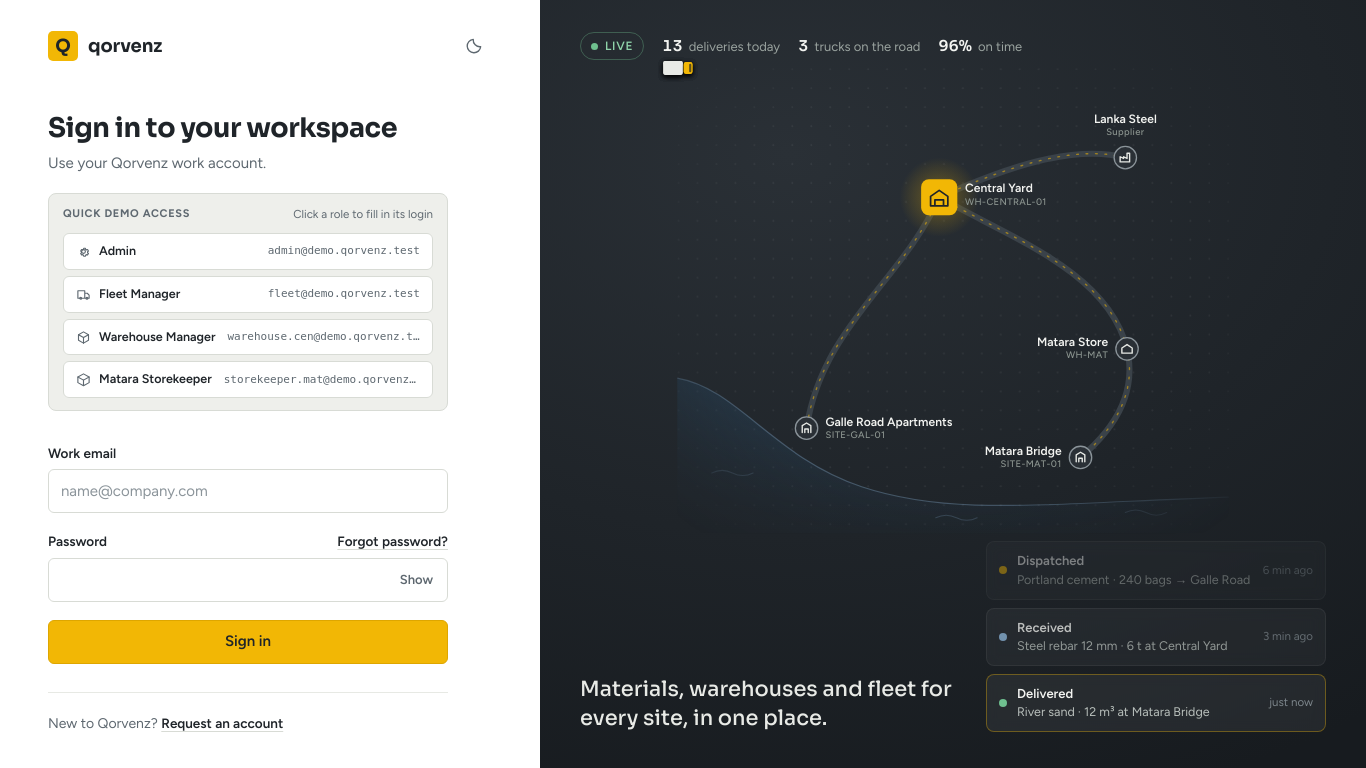
Scenario: request an account › says clearly when the company code is wrong
Expected: the heading "Sign in to your workspace" is shown, [48,112,448,144]
Click the button "Request an account" at (222, 723), box [161,713,283,733]
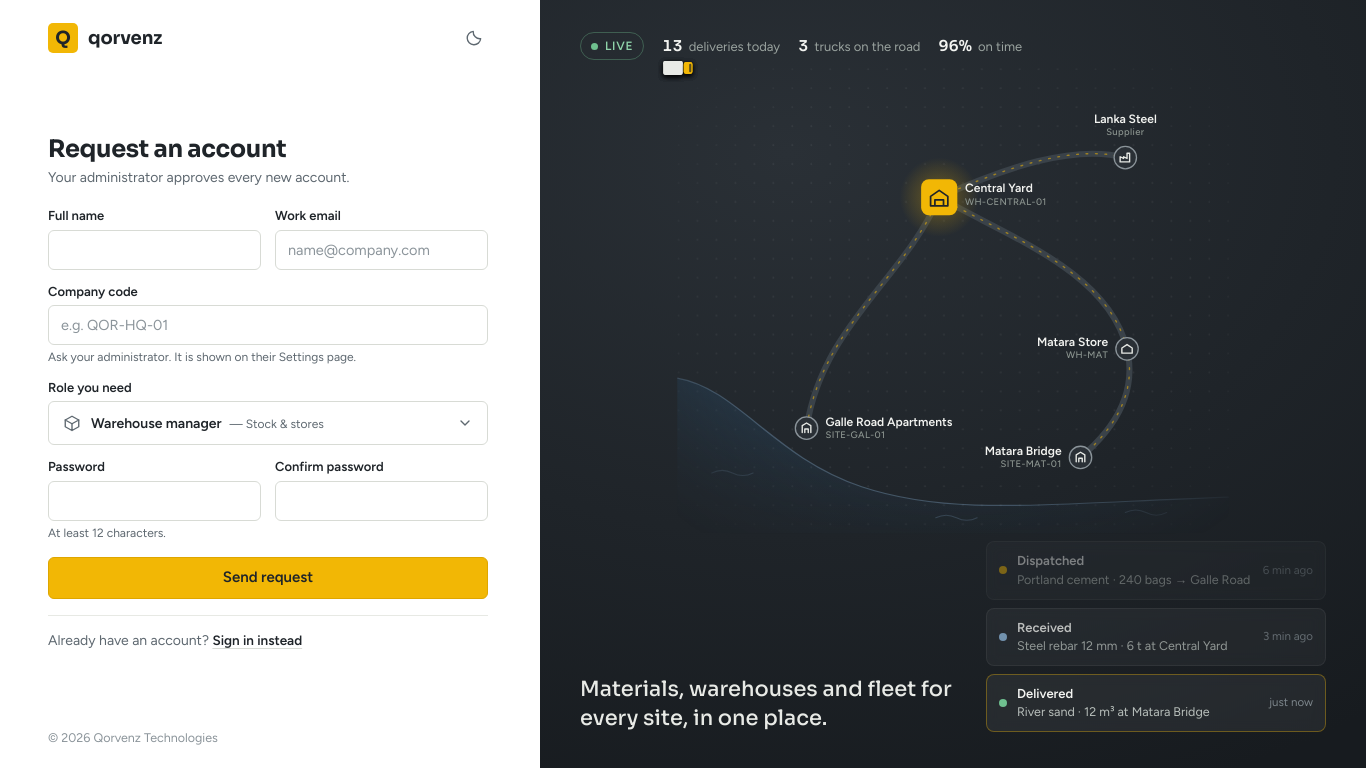
Now the heading "Request an account" is shown, box [48,134,286,164]
Type "New Person" into the field labelled "Full name" at (154, 250), box [48,230,261,270]
Type "new@example.com" into the field labelled "Work email" at (382, 250), box [275,230,488,270]
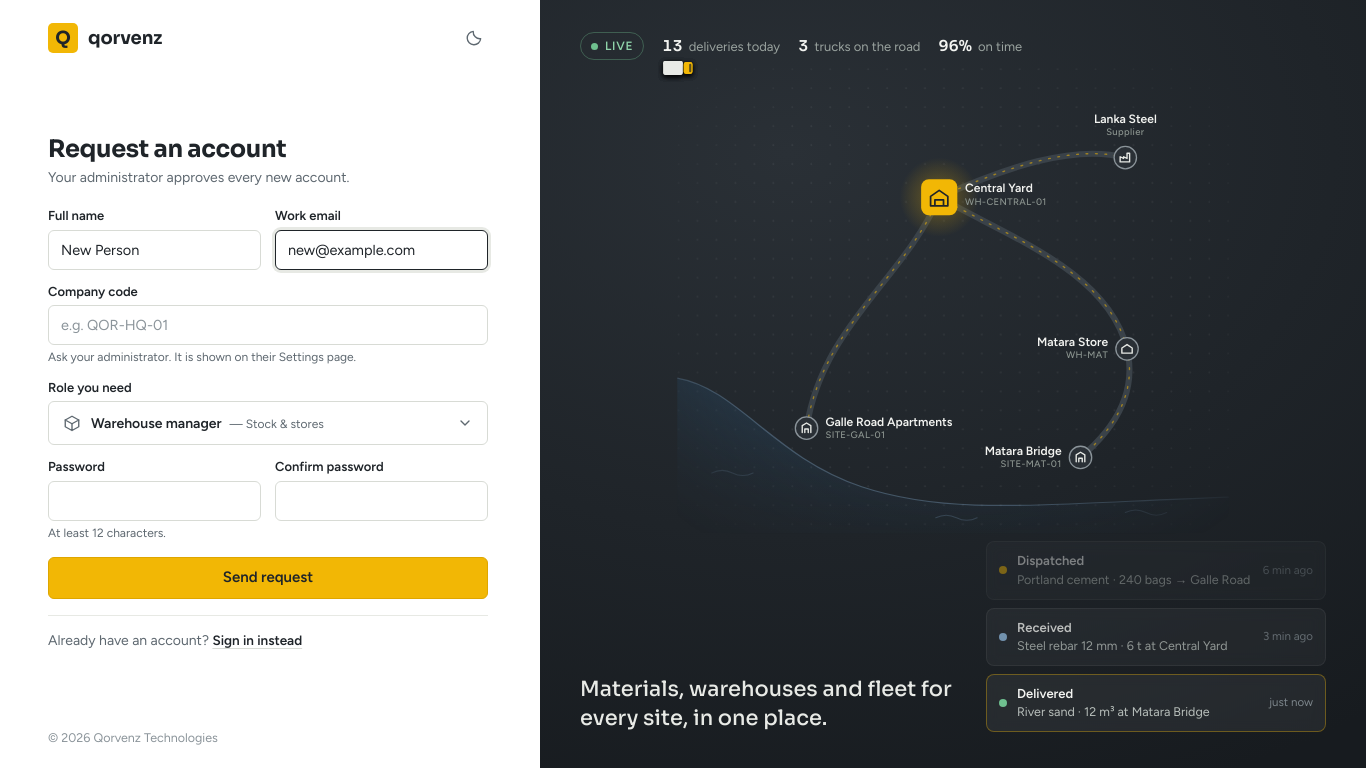
Type "WRONG" into the field labelled "Company code" at (268, 325), box [48,305,488,345]
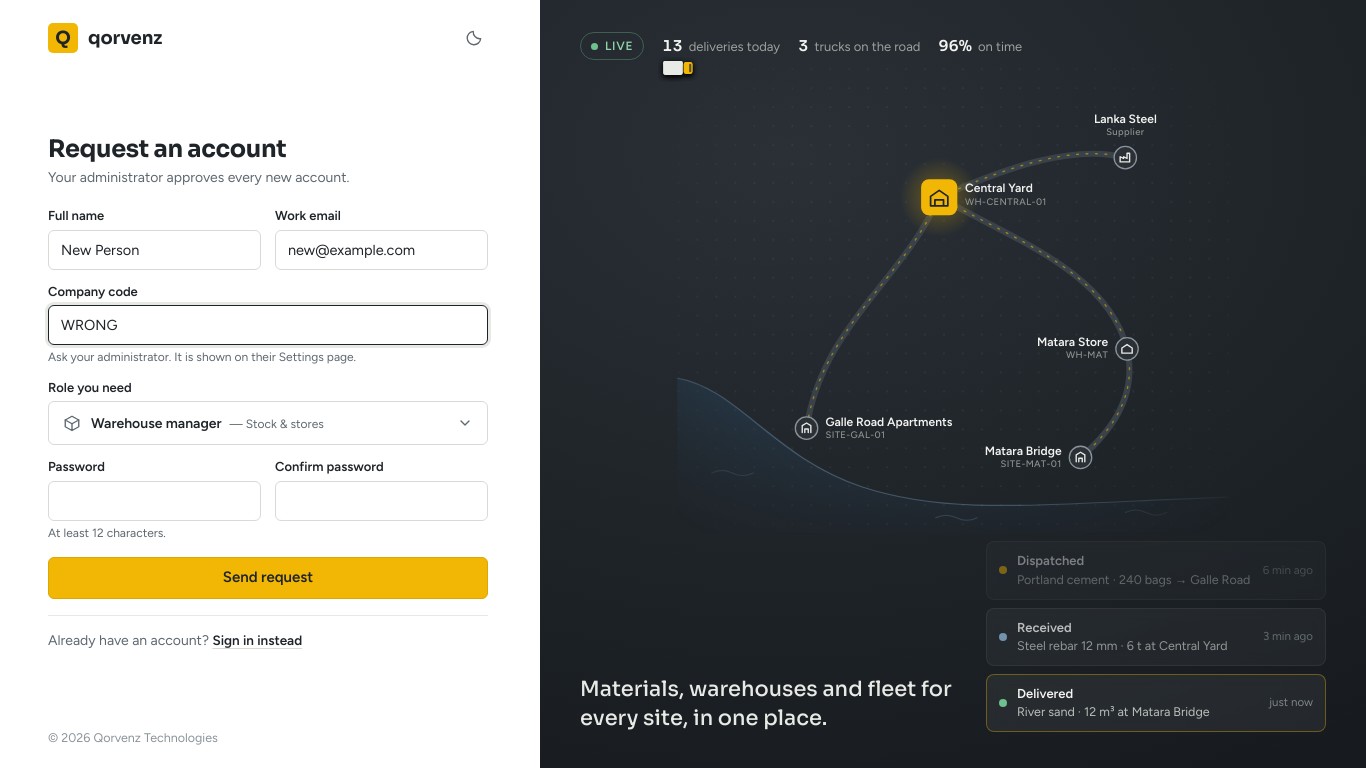
Type "long-enough-password" into the password field labelled "Password" at (154, 500), box [48,480,261,520]
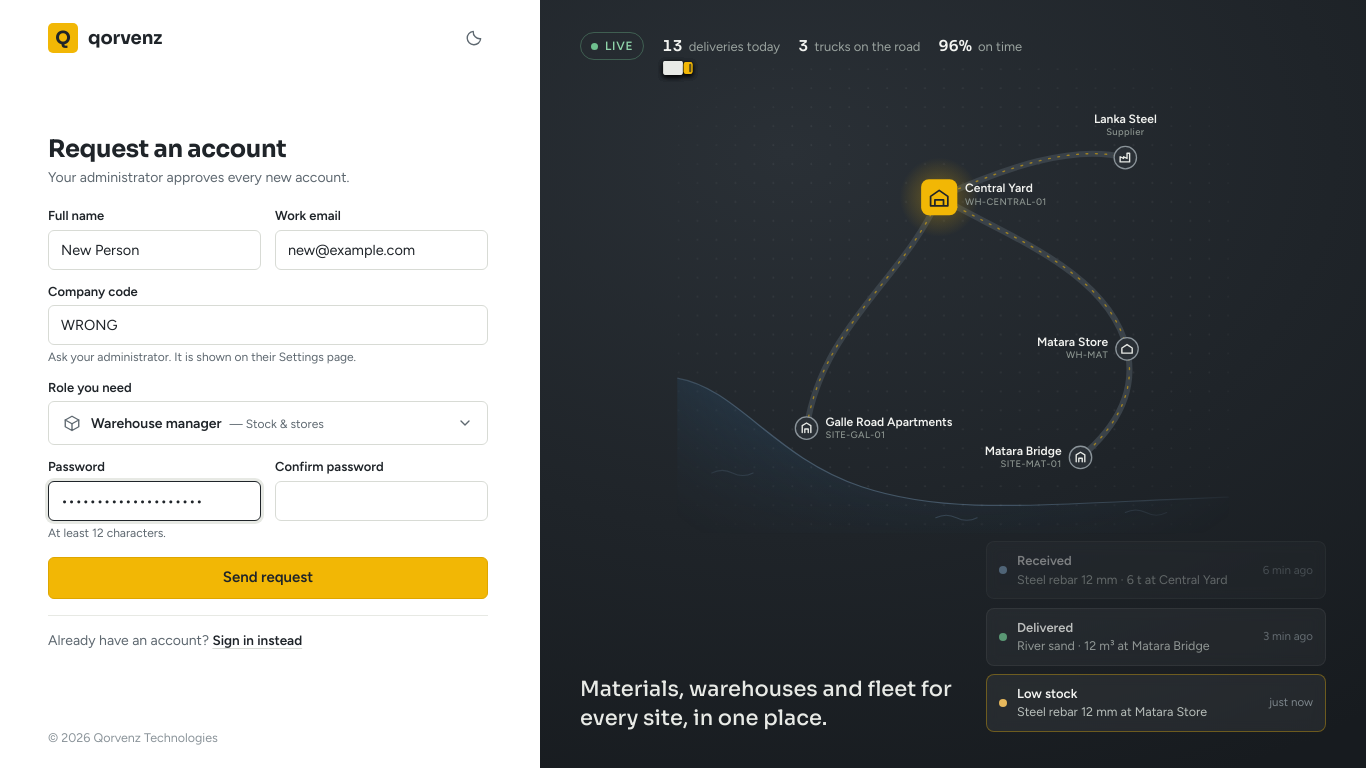
Type "long-enough-password" into the password field labelled "Confirm password" at (382, 500), box [275,480,488,520]
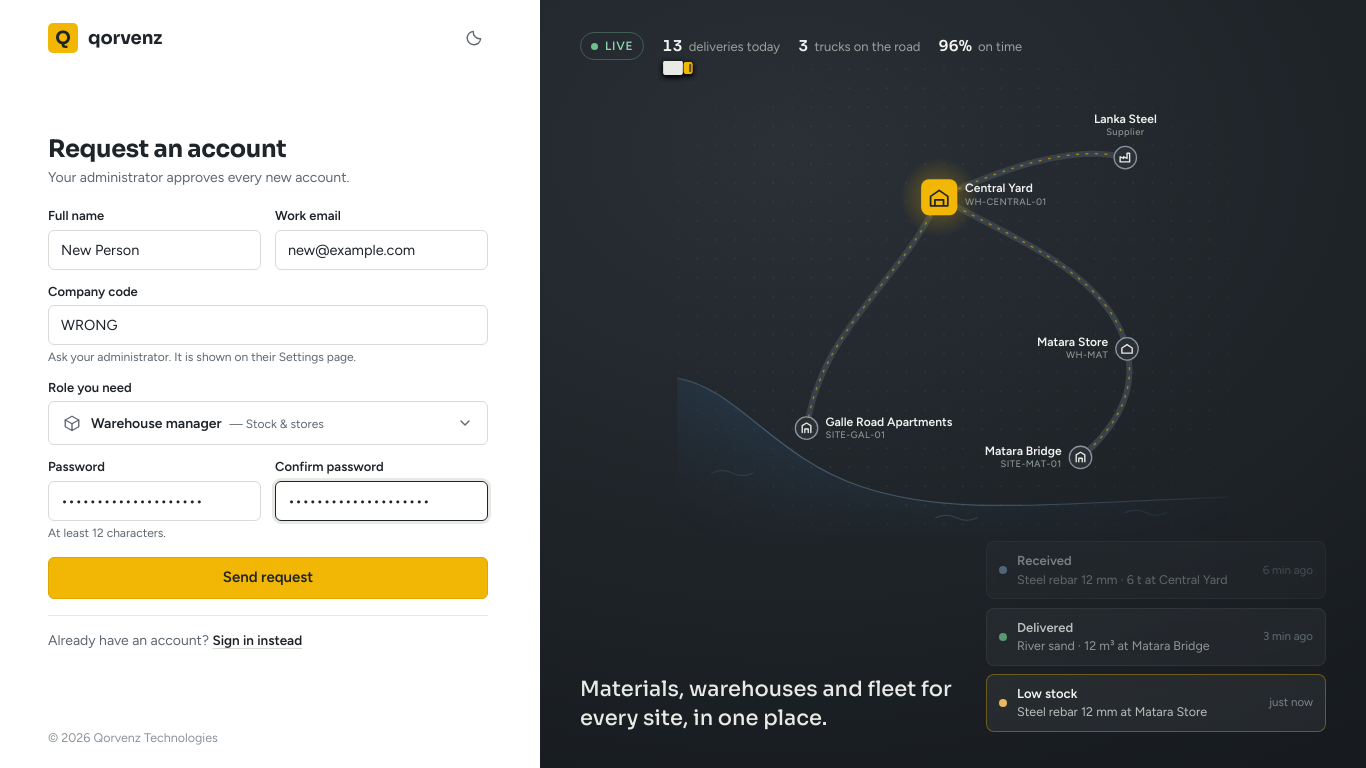
Submit the form named "Send request", box [48,206,488,599]
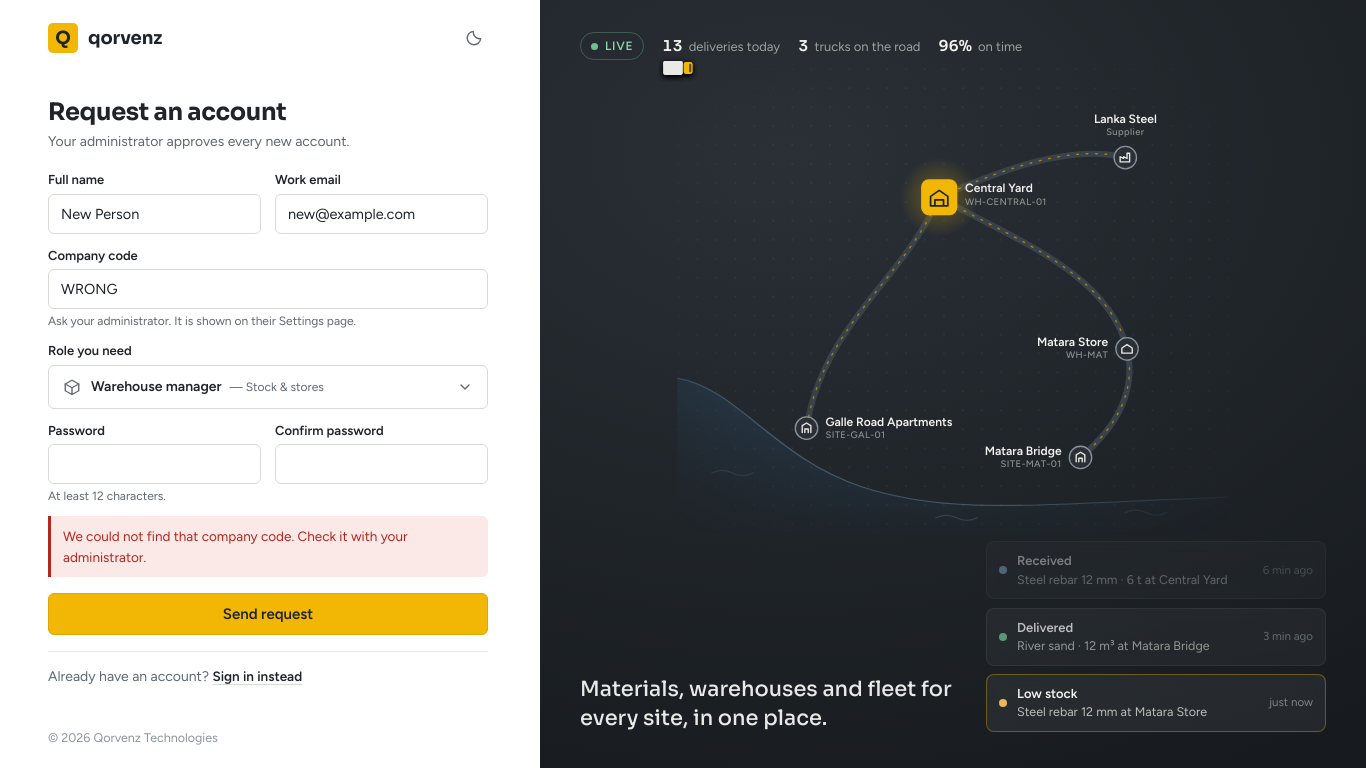
Now the message shows "could not find that company code", box [63,528,408,565]
